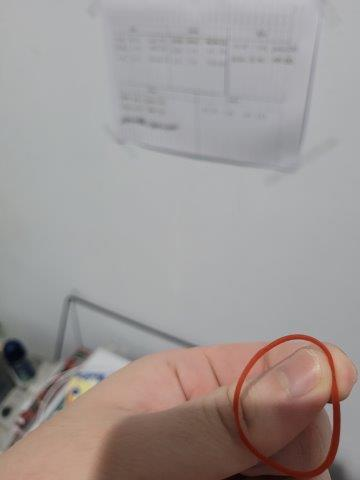karet: (234, 332, 342, 477)
